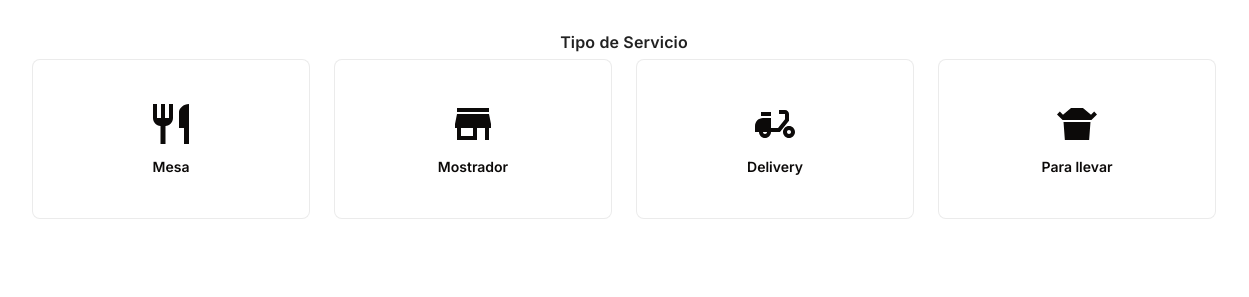
POS Routes › selecting COUNTER navigates to /pos/catalog
What coordinates should you click on to do the following:
click the button "Mostrador"
I would click on:
 (473, 139)
Its box is top-left (335, 60), bottom-right (611, 218).
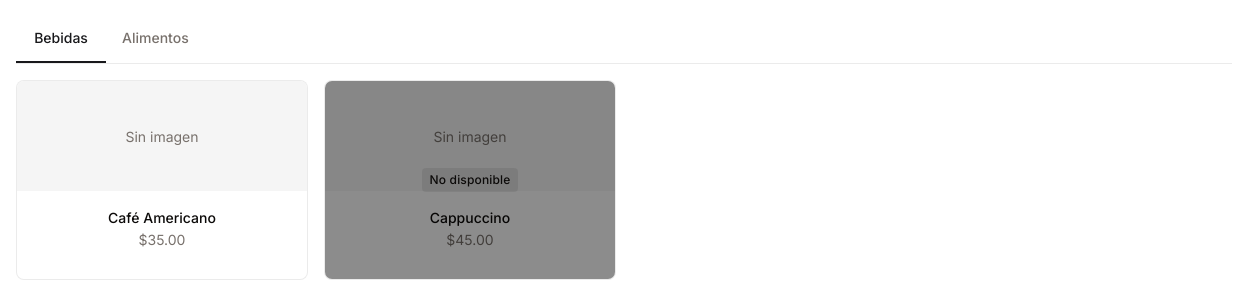
Expected: the tab "Bebidas" is shown, top-left (16, 16), bottom-right (106, 60)
